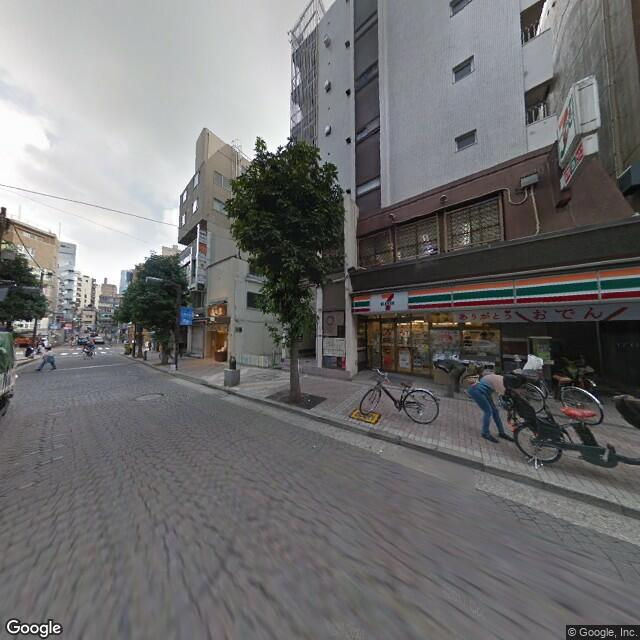7-eleven: (351, 263, 639, 319)
